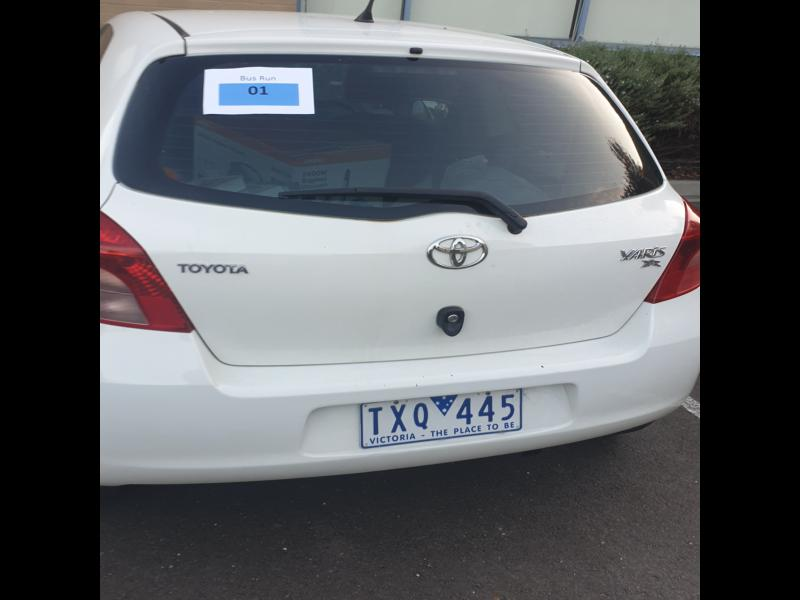BusRun: (218, 83, 300, 105)
PlateNo: (359, 386, 523, 449)
